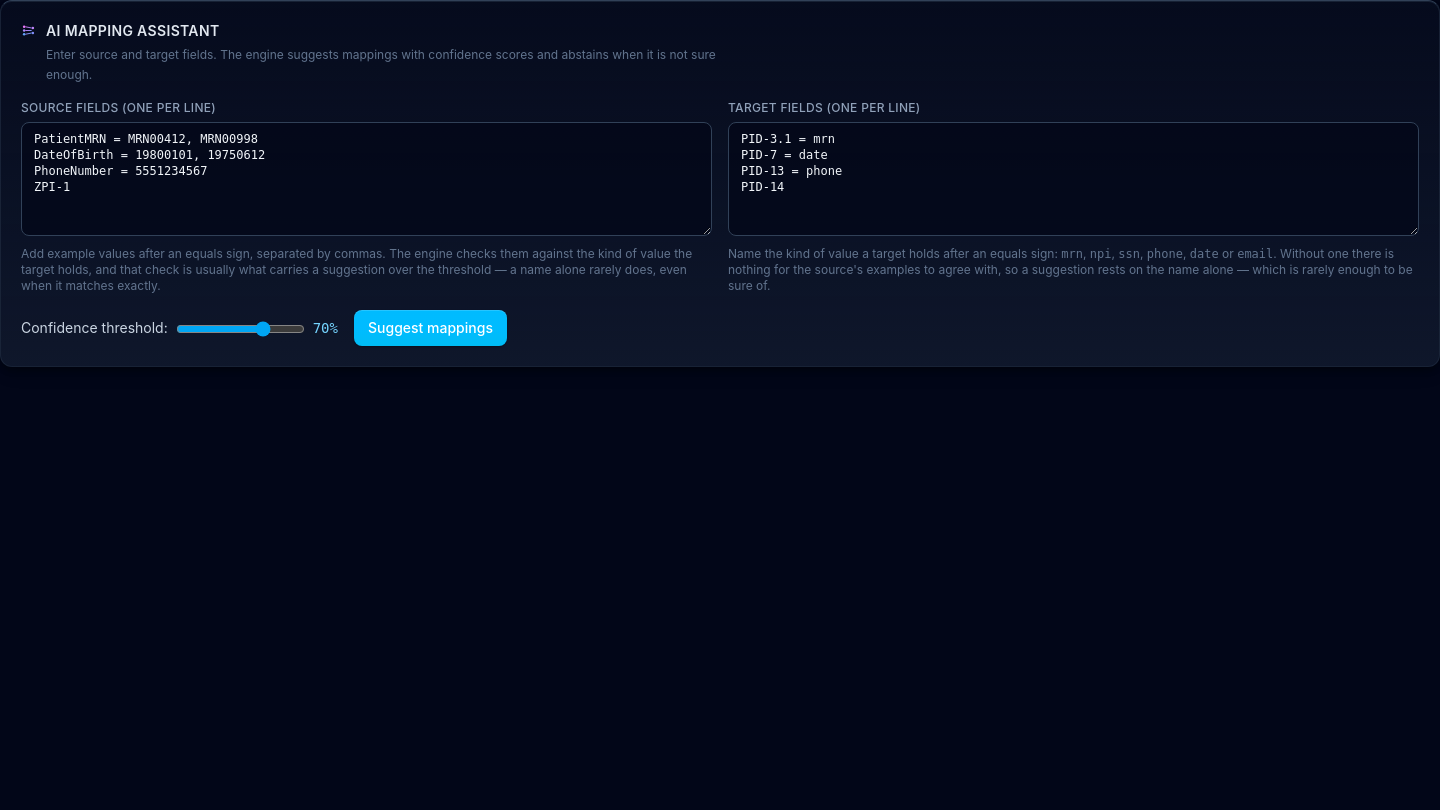
Test case: MapperPanel › renders abstention badge when abstained is true
# Trigger the suggestion
Click the button "Suggest mappings".
click(430, 328)  # box [354,310,507,346]
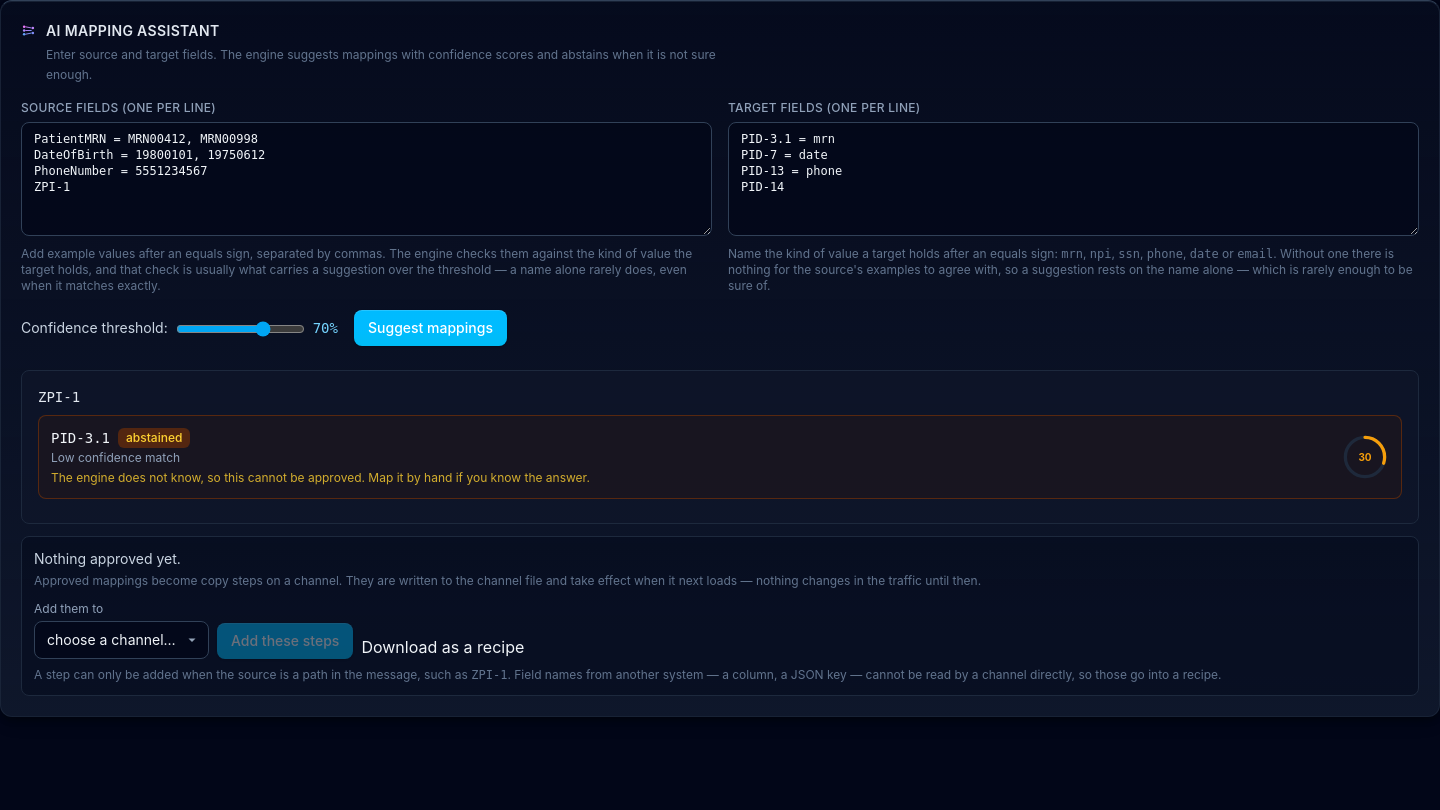
Expected: the text "abstained" is shown, [118,428,190,448]
Expected: the text with class "badge" reads "abstained", [126,430,182,445]
